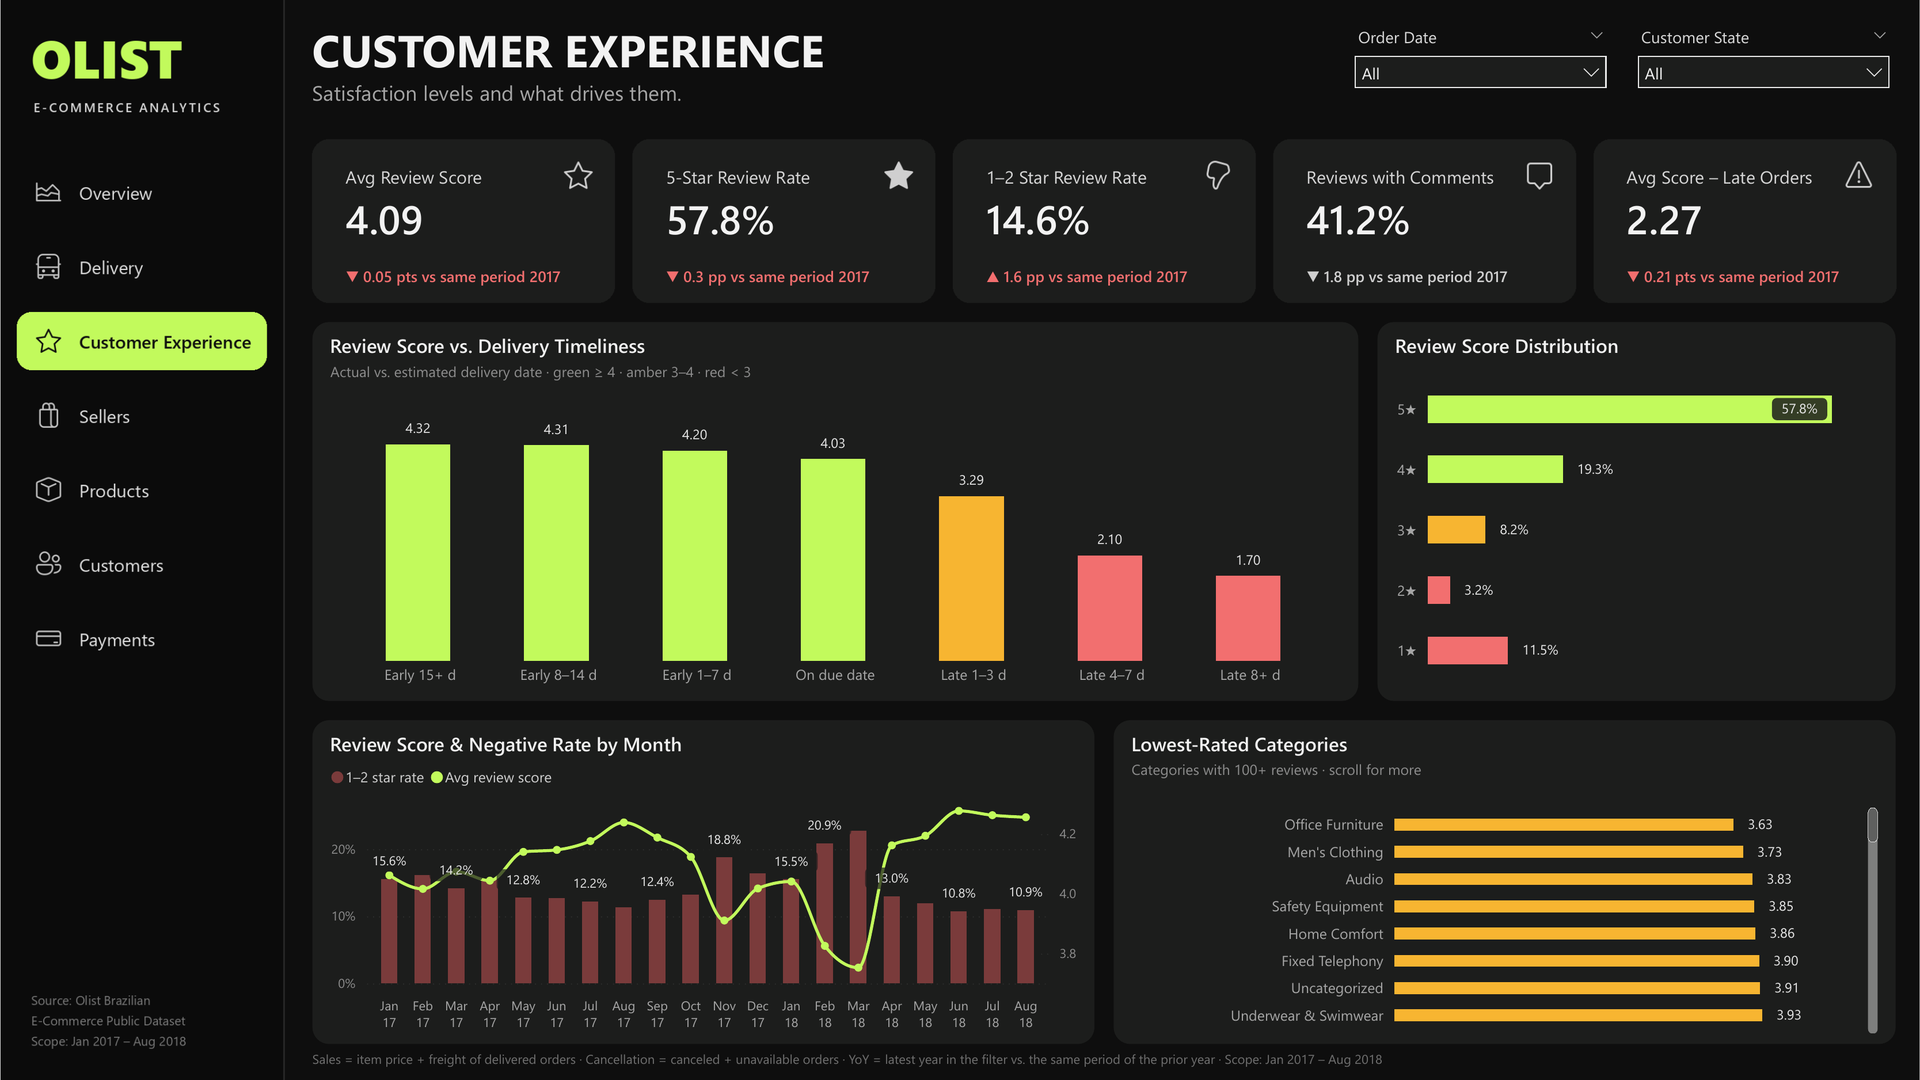

Layout of this report page (visuals, bound fields, positions):
{"tool":"powerbi","page":{"name":"Customer Experience","canvas":[1600,900],"ordinal":2},"visuals":[{"type":"textbox","box":[260,16,860,90],"z":0},{"type":"textbox","box":[260,874,1320,22],"z":1000},{"type":"cardVisual","fields":{"Data":["_Measures.Avg Review Score"]},"box":[276,128,188,84],"z":2000},{"type":"cardVisual","fields":{"Data":["_Measures.5-Star Rate"]},"box":[543,128,188,84],"z":3000},{"type":"cardVisual","fields":{"Data":["_Measures.Negative Review Rate"]},"box":[810,128,188,84],"z":4000},{"type":"cardVisual","fields":{"Data":["_Measures.Comment Rate"]},"box":[1077,128,188,84],"z":5000},{"type":"cardVisual","fields":{"Data":["_Measures.Avg Score (Late Orders)"]},"box":[1344,128,188,84],"z":6000},{"type":"cardVisual","fields":{"Data":["_Measures.Avg Review Score Δ text"]},"box":[276,214,228,28],"z":7000},{"type":"cardVisual","fields":{"Data":["_Measures.5-Star Rate Δ text"]},"box":[543,214,228,28],"z":8000},{"type":"cardVisual","fields":{"Data":["_Measures.Negative Review Rate Δ text"]},"box":[810,214,228,28],"z":9000},{"type":"cardVisual","fields":{"Data":["_Measures.Comment Rate Δ text"]},"box":[1077,214,228,28],"z":10000},{"type":"cardVisual","fields":{"Data":["_Measures.Avg Score (Late Orders) Δ text"]},"box":[1344,214,228,28],"z":11000},{"type":"clusteredColumnChart","title":"Review Score vs. Delivery Timeliness","fields":{"Category":["Orders.delay_bucket"],"Y":["_Measures.Avg Review Score"]},"box":[260,268,872,316],"z":12000},{"type":"clusteredBarChart","title":"Review Score Distribution","fields":{"Category":["Orders.review_label"],"Y":["_Measures.Review Share"]},"box":[1148,268,432,316],"z":13000},{"type":"lineStackedColumnComboChart","title":"Review Score & Negative Rate by Month","fields":{"Category":["Date.YearMonth"],"Y":["_Measures.Negative Review Rate"],"Y2":["_Measures.Avg Review Score"]},"box":[260,600,652,270],"z":14000},{"type":"clusteredBarChart","title":"Lowest-Rated Categories","fields":{"Category":["Products.category"],"Y":["_Measures.Avg Score (100+ Reviews)"]},"box":[928,600,652,270],"z":15000},{"type":"actionButton","box":[14,136,208,48],"z":16000},{"type":"actionButton","box":[14,198,208,48],"z":17000},{"type":"actionButton","box":[14,260,208,48],"z":18000},{"type":"actionButton","box":[14,322,208,48],"z":19000},{"type":"actionButton","box":[14,384,208,48],"z":20000},{"type":"actionButton","box":[14,446,208,48],"z":21000},{"type":"actionButton","box":[14,508,208,48],"z":22000},{"type":"slicer","fields":{"Values":["Date.Year","Date.Month"]},"box":[1124,22,220,70],"z":23000},{"type":"slicer","fields":{"Values":["States.state_name"]},"box":[1360,22,220,70],"z":24000}]}

Visuals, with their boxes on the page's 1600x900 design canvas (x1, y1, x2, y2). These are canvas units, not pixel positions in the 1920x1080 screenshot, which may show the page scaled, cropped or inside an application window:
textbox: BBox(260, 16, 1120, 106)
textbox: BBox(260, 874, 1580, 896)
cardVisual - _Measures.Avg Review Score: BBox(276, 128, 464, 212)
cardVisual - _Measures.5-Star Rate: BBox(543, 128, 731, 212)
cardVisual - _Measures.Negative Review Rate: BBox(810, 128, 998, 212)
cardVisual - _Measures.Comment Rate: BBox(1077, 128, 1265, 212)
cardVisual - _Measures.Avg Score (Late Orders): BBox(1344, 128, 1532, 212)
cardVisual - _Measures.Avg Review Score Δ text: BBox(276, 214, 504, 242)
cardVisual - _Measures.5-Star Rate Δ text: BBox(543, 214, 771, 242)
cardVisual - _Measures.Negative Review Rate Δ text: BBox(810, 214, 1038, 242)
cardVisual - _Measures.Comment Rate Δ text: BBox(1077, 214, 1305, 242)
cardVisual - _Measures.Avg Score (Late Orders) Δ text: BBox(1344, 214, 1572, 242)
"Review Score vs. Delivery Timeliness" clusteredColumnChart: BBox(260, 268, 1132, 584)
"Review Score Distribution" clusteredBarChart: BBox(1148, 268, 1580, 584)
"Review Score & Negative Rate by Month" lineStackedColumnComboChart: BBox(260, 600, 912, 870)
"Lowest-Rated Categories" clusteredBarChart: BBox(928, 600, 1580, 870)
actionButton: BBox(14, 136, 222, 184)
actionButton: BBox(14, 198, 222, 246)
actionButton: BBox(14, 260, 222, 308)
actionButton: BBox(14, 322, 222, 370)
actionButton: BBox(14, 384, 222, 432)
actionButton: BBox(14, 446, 222, 494)
actionButton: BBox(14, 508, 222, 556)
slicer - Date.Year x Date.Month: BBox(1124, 22, 1344, 92)
slicer - States.state_name: BBox(1360, 22, 1580, 92)
